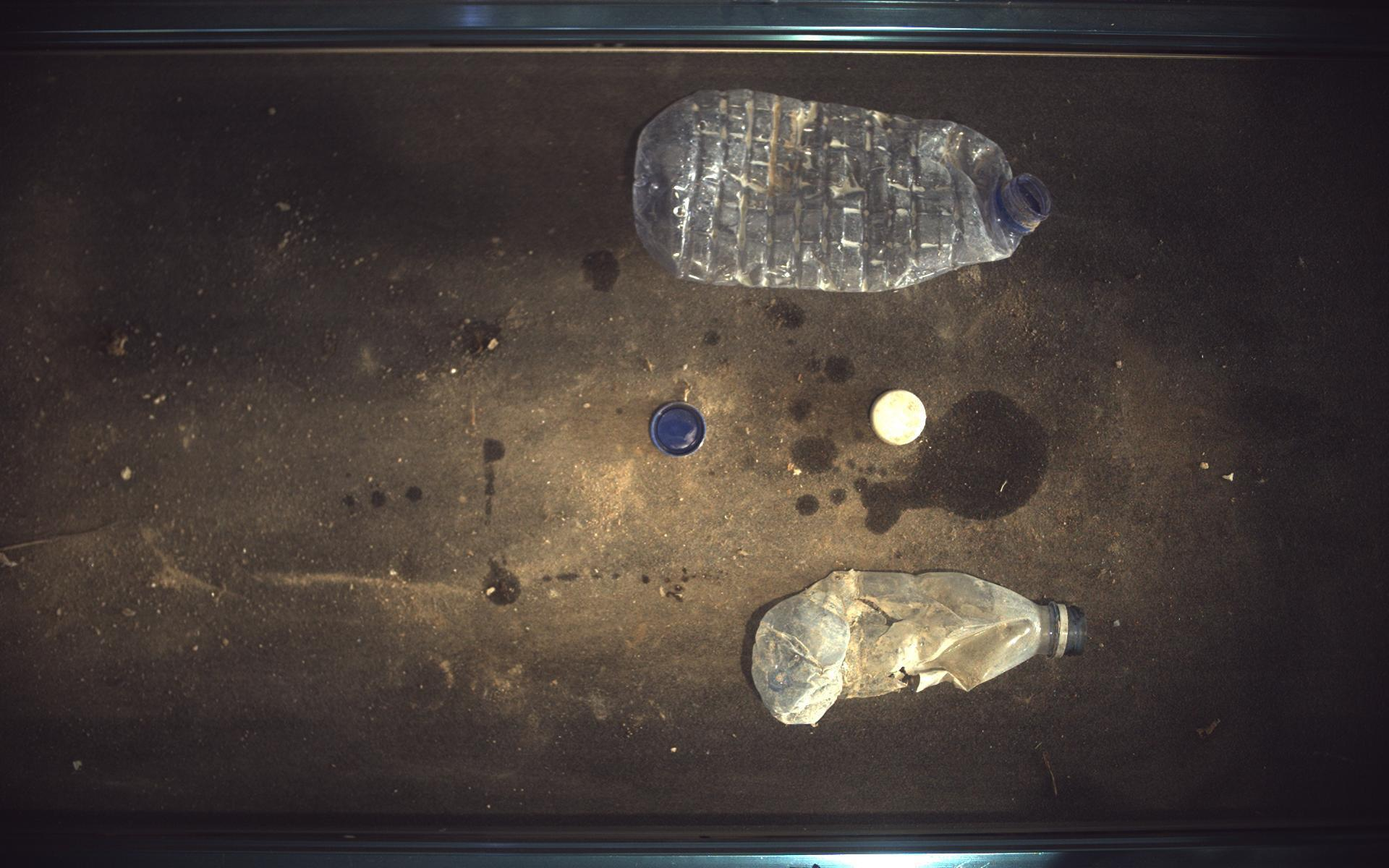general_w: (634, 89, 1053, 291), (754, 571, 1089, 726), (650, 400, 708, 457), (873, 390, 928, 446)
